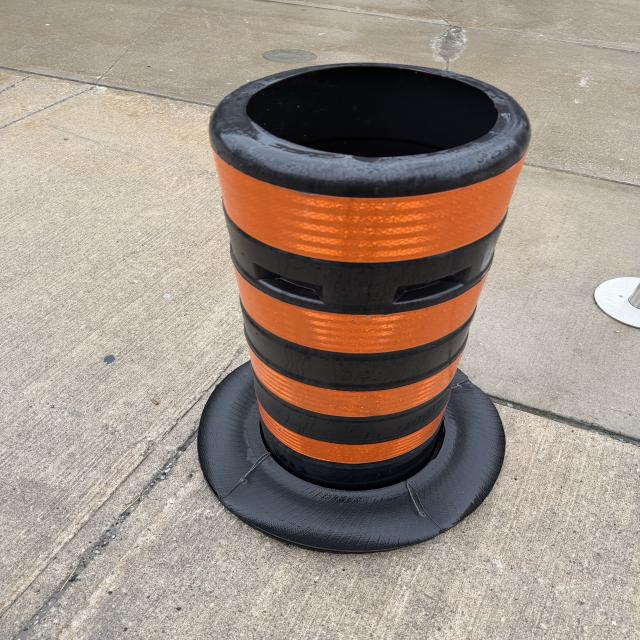Teraffic Barrel: (198, 64, 530, 552)
